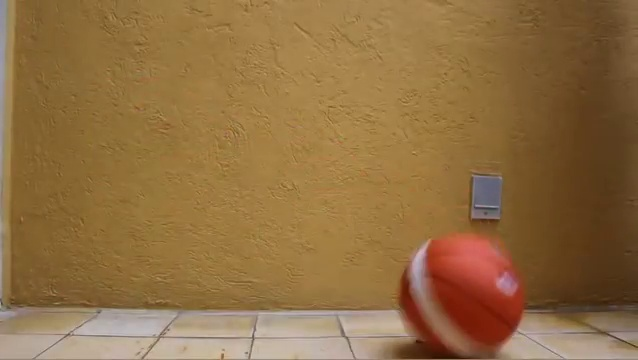ball: (397, 232, 527, 357)
